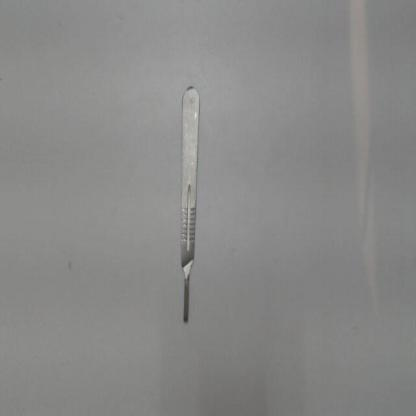No.4 BP Handle: (173, 77, 205, 328)
